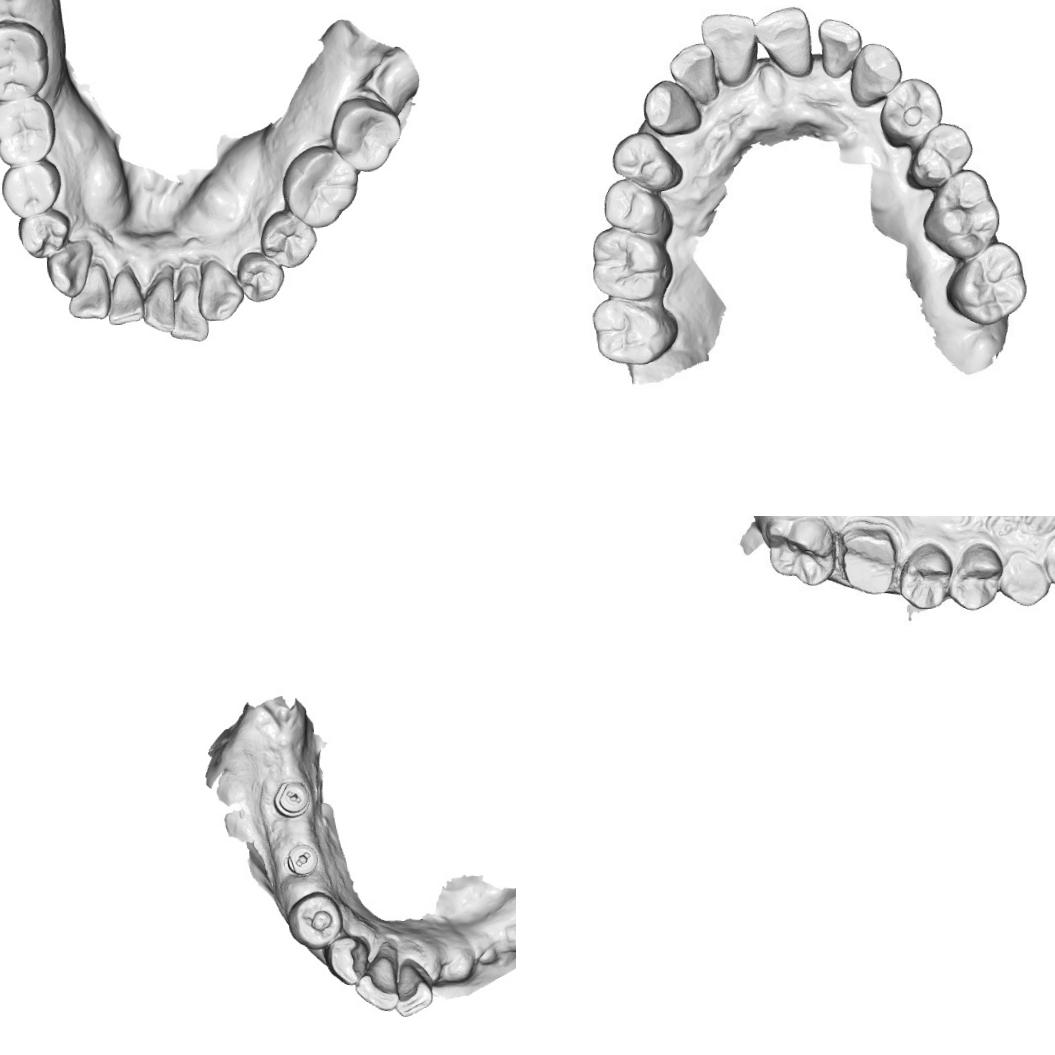canine: (846, 36, 904, 107), (639, 77, 702, 137), (194, 256, 246, 323), (998, 547, 1050, 611), (44, 238, 96, 299), (322, 933, 374, 987)
crown: (834, 524, 900, 596)
implant_minus: (271, 778, 312, 819), (284, 842, 320, 876)
incisor: (698, 5, 762, 90), (750, 2, 816, 82), (351, 939, 402, 1013), (666, 40, 720, 108), (166, 264, 210, 342), (816, 14, 864, 78), (64, 260, 112, 321), (390, 957, 436, 1020), (138, 262, 176, 334), (104, 266, 145, 327), (1045, 535, 1055, 586)
molar: (942, 238, 1030, 327), (917, 167, 1000, 260), (278, 142, 361, 229), (589, 224, 673, 303), (588, 293, 672, 371), (328, 94, 404, 174), (757, 516, 836, 588), (0, 17, 51, 101), (0, 96, 58, 167)
premolar: (902, 118, 976, 190), (876, 72, 945, 148), (605, 129, 683, 194), (600, 176, 674, 240), (896, 538, 958, 613), (948, 539, 1004, 612), (284, 888, 345, 951), (0, 159, 62, 219), (258, 208, 318, 270), (15, 207, 72, 260), (234, 250, 285, 303)
